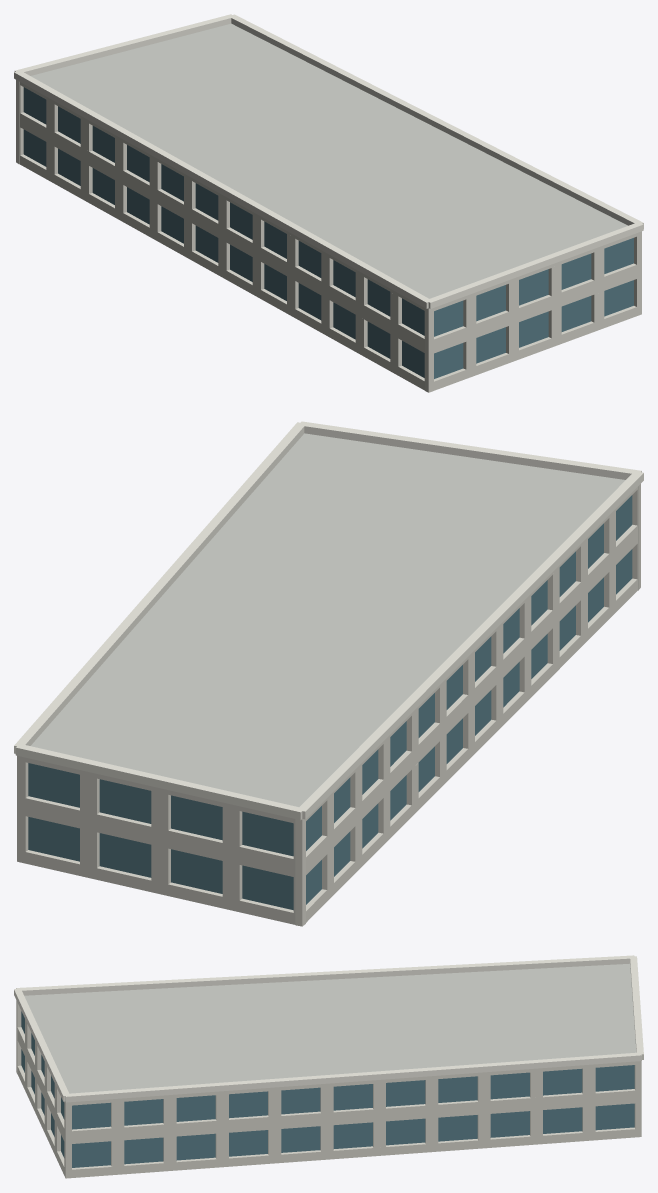
The model's file is sb_1556514396.far.glb.
3 renders of one model, top to bottom at view 1: azimuth 30°, elevation 25°; view 2: azimuth 150°, elevation 25°; view 3: azimuth 270°, elevation 25°, orthographic. The views are drawn at different scales.
Parts seen in each view (by area): view 1: roof, wall, glass, trim; view 2: roof, wall, glass, trim; view 3: roof, wall, glass, trim.
Boxes of the visible parts, x1=… form: roof: x1=31, y1=23, x2=627, y2=298; wall: x1=16, y1=80, x2=641, y2=392; glass: x1=23, y1=87, x2=633, y2=378; trim: x1=14, y1=14, x2=643, y2=308; roof: x1=31, y1=433, x2=625, y2=806; wall: x1=17, y1=484, x2=640, y2=926; glass: x1=28, y1=495, x2=632, y2=910; trim: x1=14, y1=421, x2=643, y2=820; roof: x1=24, y1=963, x2=636, y2=1093; wall: x1=16, y1=1000, x2=641, y2=1178; glass: x1=21, y1=1011, x2=634, y2=1167; trim: x1=14, y1=955, x2=643, y2=1102.
Size of the model in its own units: 23.64 by 6.44 by 44.48.
